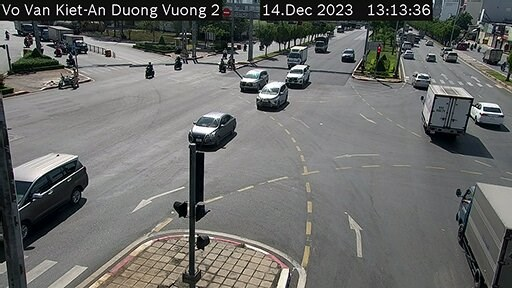car: (1, 150, 89, 246), (183, 106, 239, 148), (261, 75, 288, 113), (474, 98, 503, 128), (291, 64, 312, 98), (245, 67, 265, 94), (413, 69, 430, 90), (340, 45, 352, 65), (444, 51, 456, 62), (426, 53, 437, 63), (404, 51, 412, 60)
motorbike: (145, 61, 158, 83), (171, 55, 184, 71), (218, 58, 227, 72)
truck: (441, 175, 512, 286), (414, 85, 476, 134), (284, 47, 307, 70), (313, 36, 332, 55)
